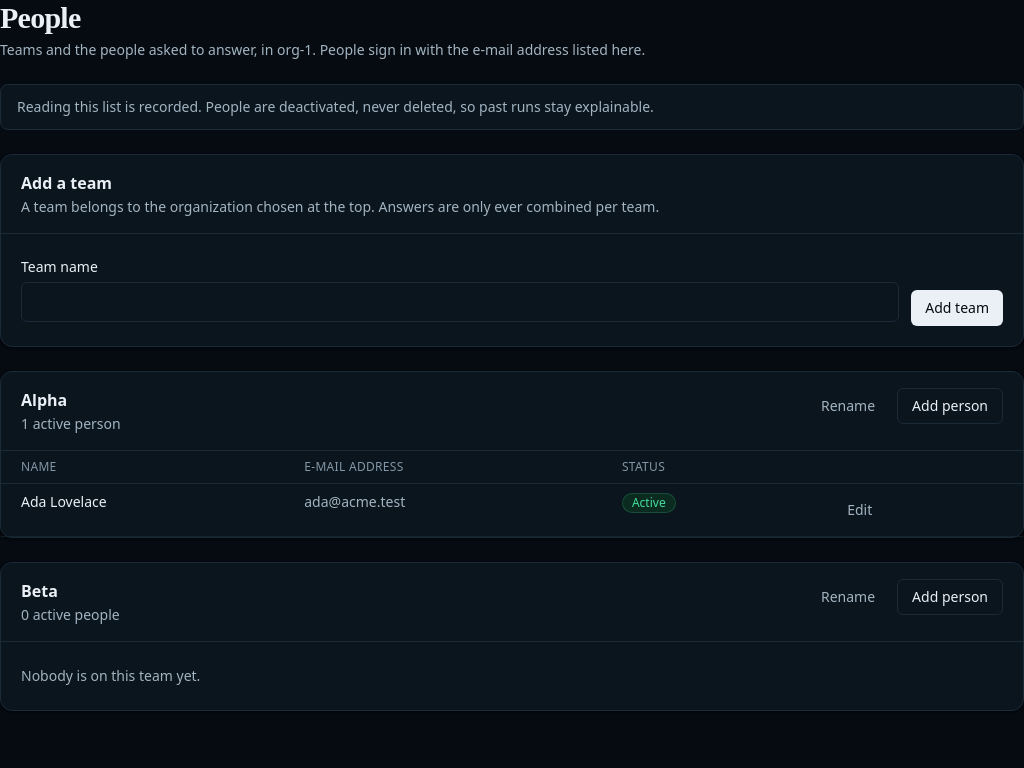
Test: PeoplePage › edits a person: moves them to another team and deactivates them
Expected: the element named "Team Alpha" is shown, [0, 371, 1023, 538]
Click the button with aria-label "Edit Ada Lovelace" at (860, 510), box [833, 492, 886, 528]
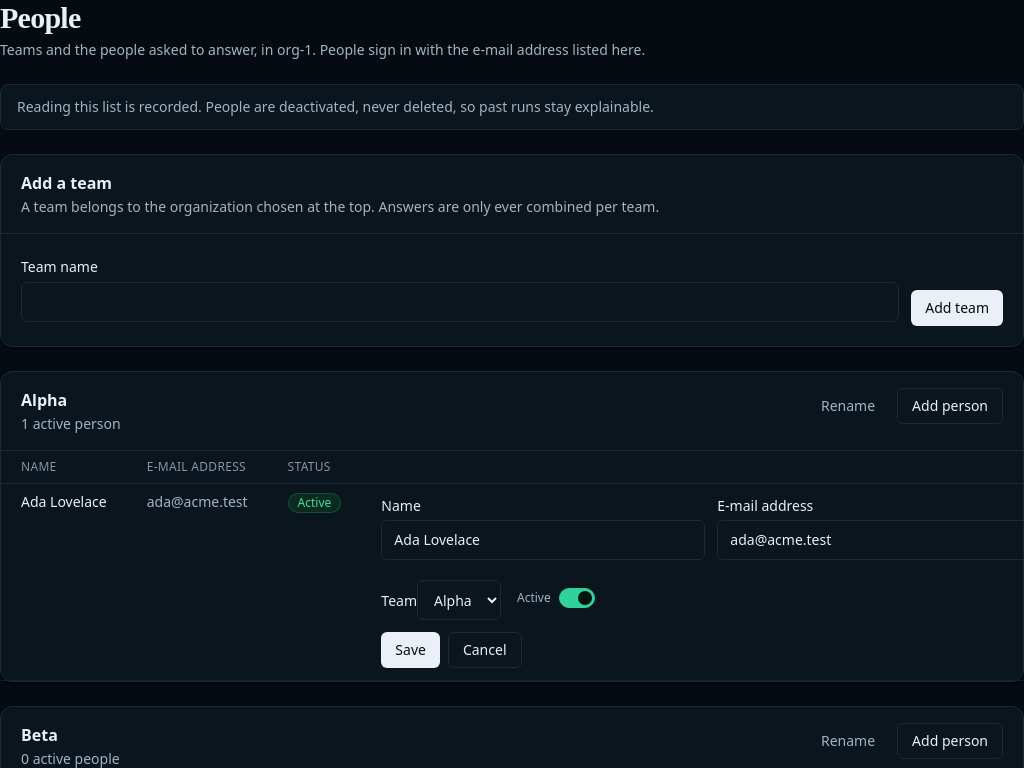
Select "Beta" in the dropdown labelled "Team" at (459, 600), box [417, 580, 501, 620]
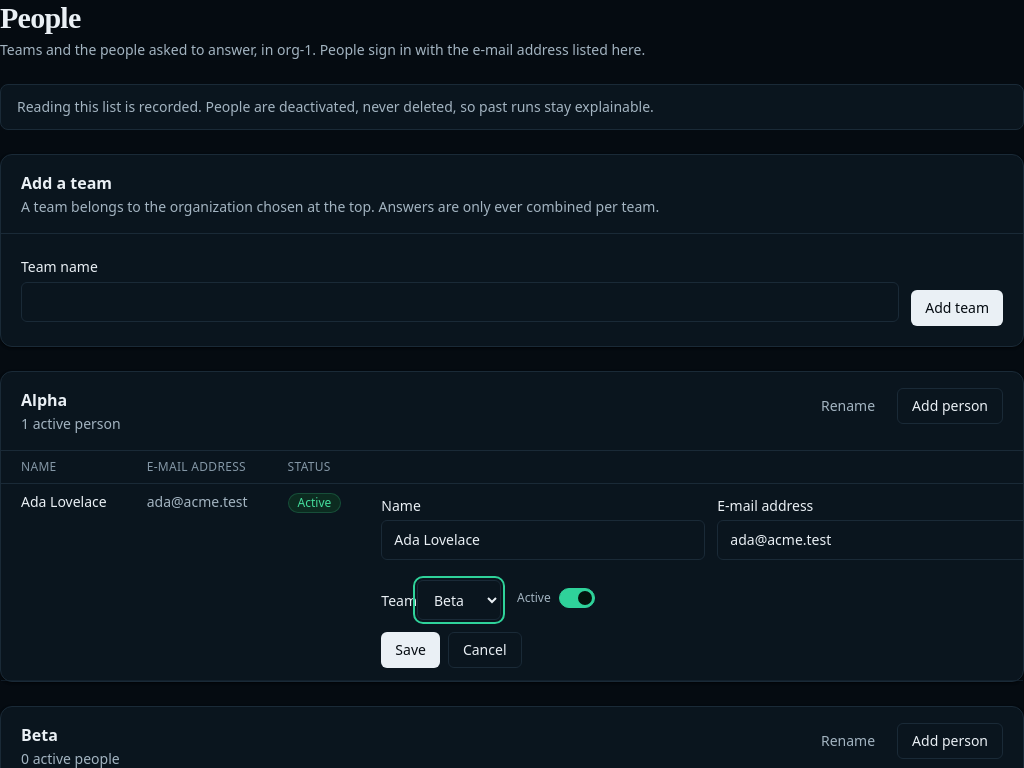
Click the switch labelled "Active" at (556, 598), box [517, 588, 595, 608]
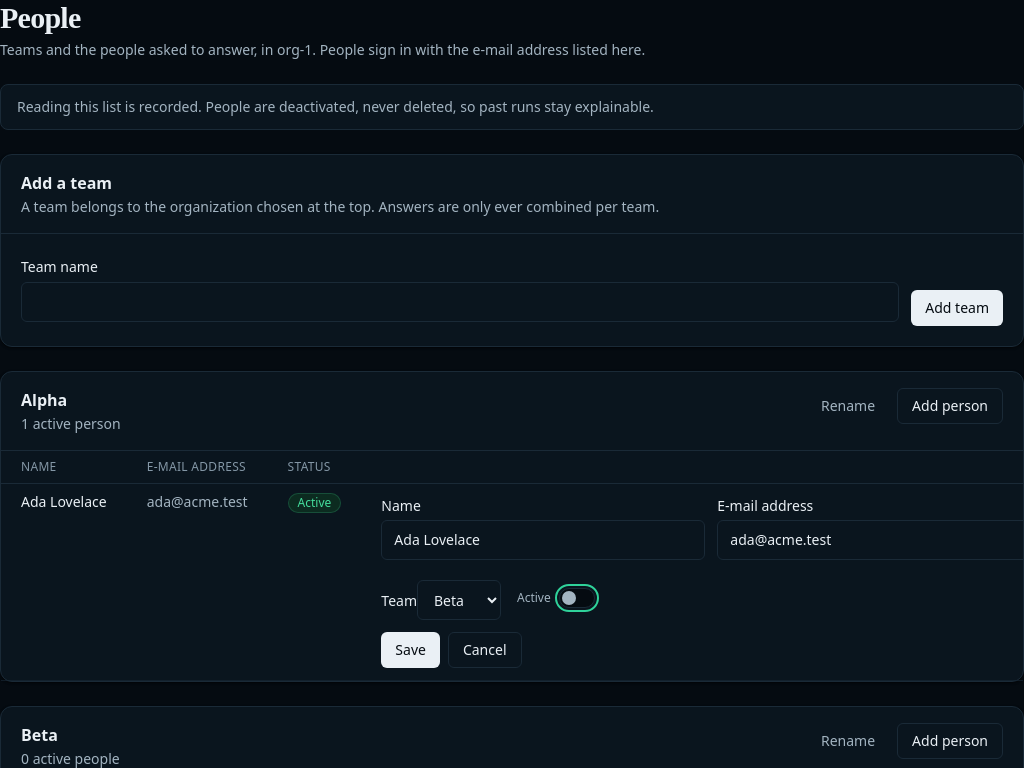
Click the button "Save" at (411, 650), box [381, 632, 440, 668]
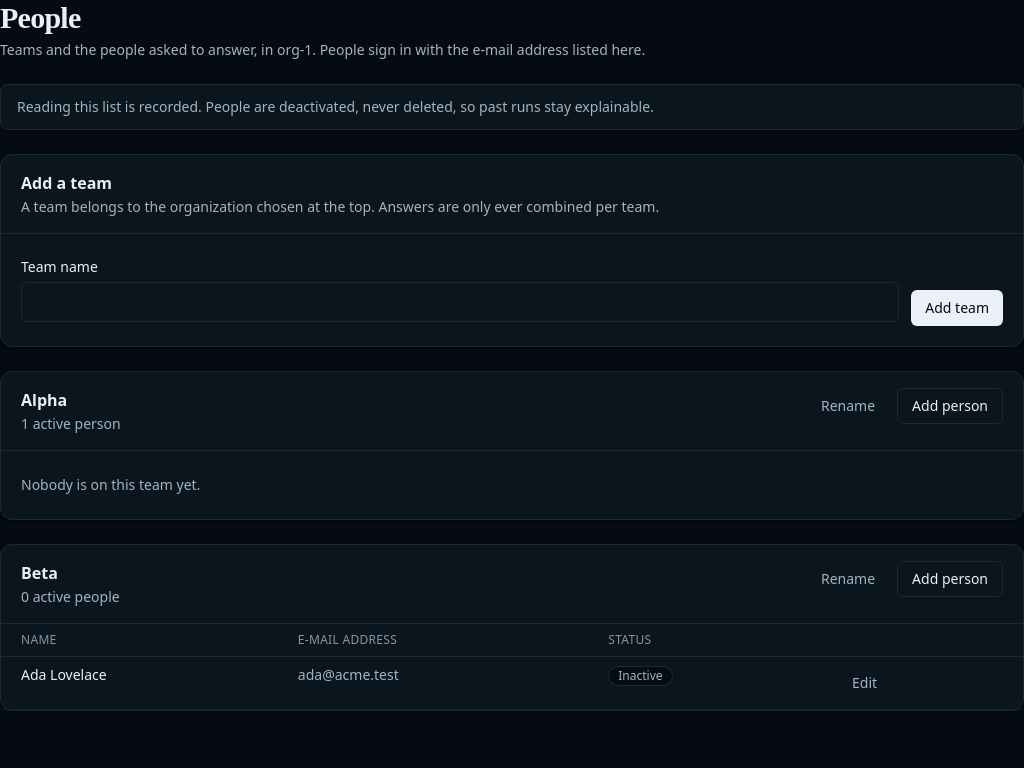
Expected: the text "Inactive" is shown, [608, 666, 673, 686]
